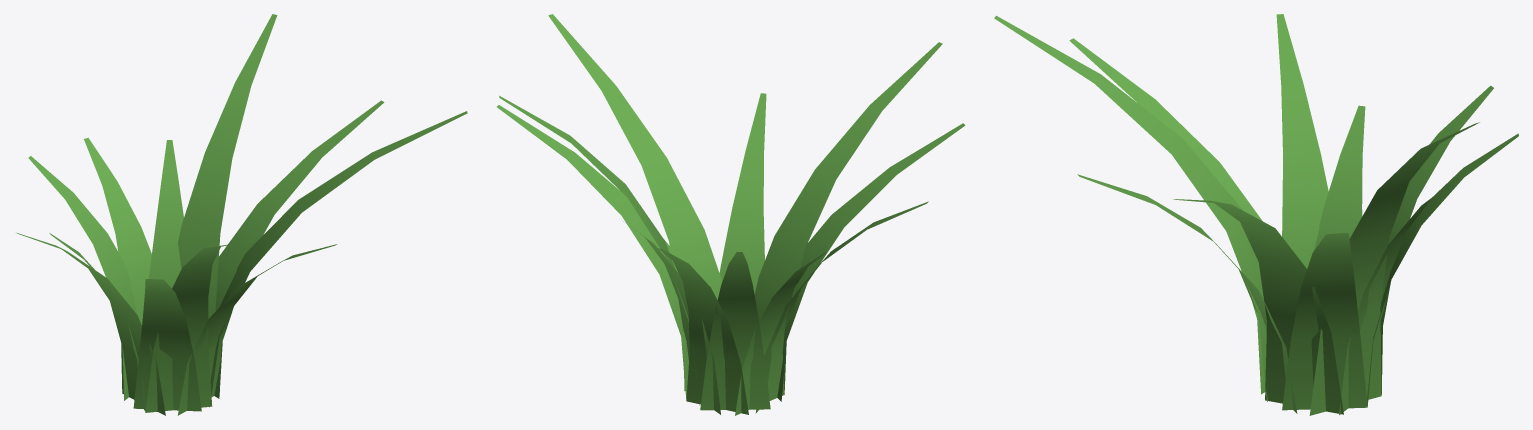
The model's file is grass_tuft.glb.
3 views of the same model, side by side, from view 1: azimuth 30°, elevation 25°; view 2: azimuth 150°, elevation 25°; view 3: azimuth 270°, elevation 25° (orthographic). The views are drawn at different scales.
Visible parts, largest first — view 1: blades; view 2: blades; view 3: blades.
Boxes of the visible parts, <box> form: blades: <box>16,14,467,415</box>; blades: <box>497,14,965,415</box>; blades: <box>994,14,1518,415</box>.
Bounding box in the file's own units: 0.6769 × 0.4644 × 0.5982.
